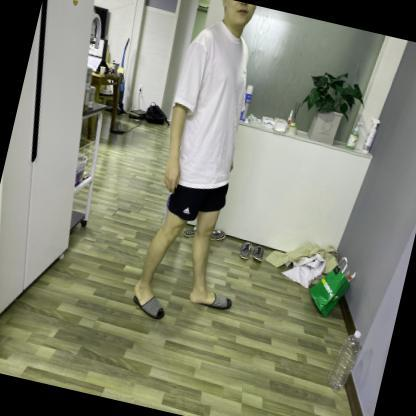no_safety-shoe: (124, 281, 176, 333), (182, 282, 242, 323)
